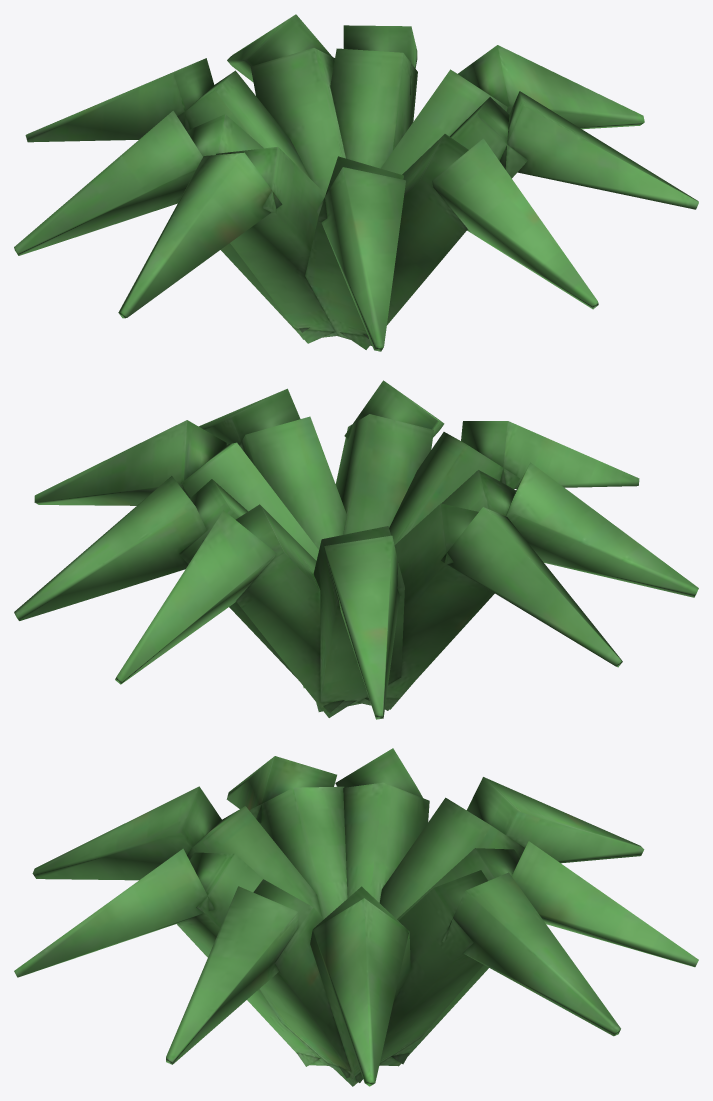
The model's file is fern.glb.
3 renders of one model, top to bottom at view 1: azimuth 30°, elevation 25°; view 2: azimuth 150°, elevation 25°; view 3: azimuth 270°, elevation 25°, orthographic.
Parts seen in each view (by area): view 1: Fern; view 2: Fern; view 3: Fern.
Boxes of the visible parts, x1,y1,x2,y2 form: Fern: (14, 14, 698, 351); Fern: (14, 380, 698, 719); Fern: (14, 748, 698, 1086).
Bounding box in the file's own units: 2.59 × 1.01 × 2.54.
Materials: 1 (1 with a texture image).
